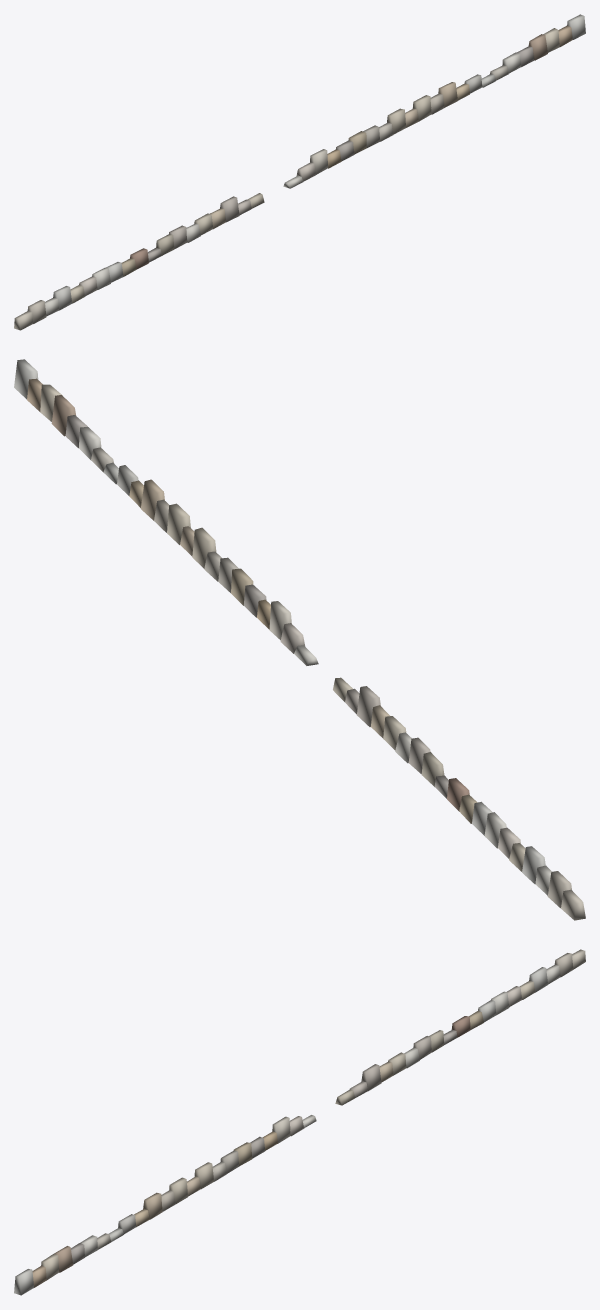
File: farm_-22_-22_far.glb
3 views of the same model, one above another, from view 1: azimuth 90°, elevation 25°; view 2: azimuth 150°, elevation 25°; view 3: azimuth 270°, elevation 25° (orthographic). The views are drawn at different scales.
Visible parts, largest first — view 1: geometry_0; view 2: geometry_0; view 3: geometry_0.
Boxes of the visible parts, x1=… form: geometry_0: x1=14, y1=14, x2=585, y2=330; geometry_0: x1=14, y1=359, x2=585, y2=920; geometry_0: x1=14, y1=949, x2=585, y2=1295.
Size of the model in its own units: 55.55 by 2.73 by 42.3.
